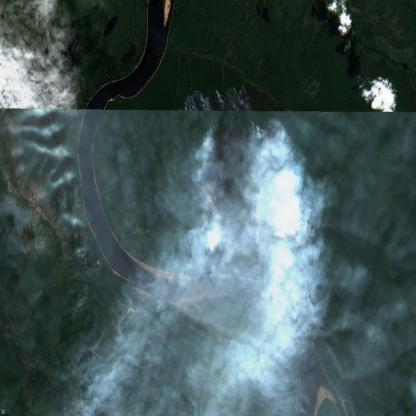fire: (179, 89, 301, 256)
